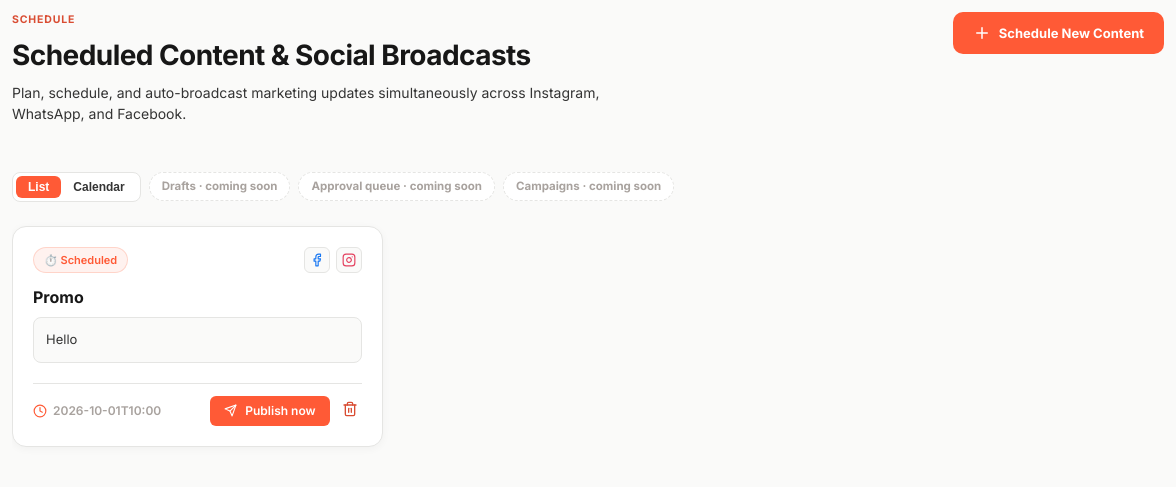
Test: Scheduler › handles "Live with warnings" branch when partial failures occur
The image size is (1176, 487).
What coordinates should you click on to do the following:
click the button "Publish now"
I would click on:
 (270, 411)
Its box is [210, 396, 330, 426].
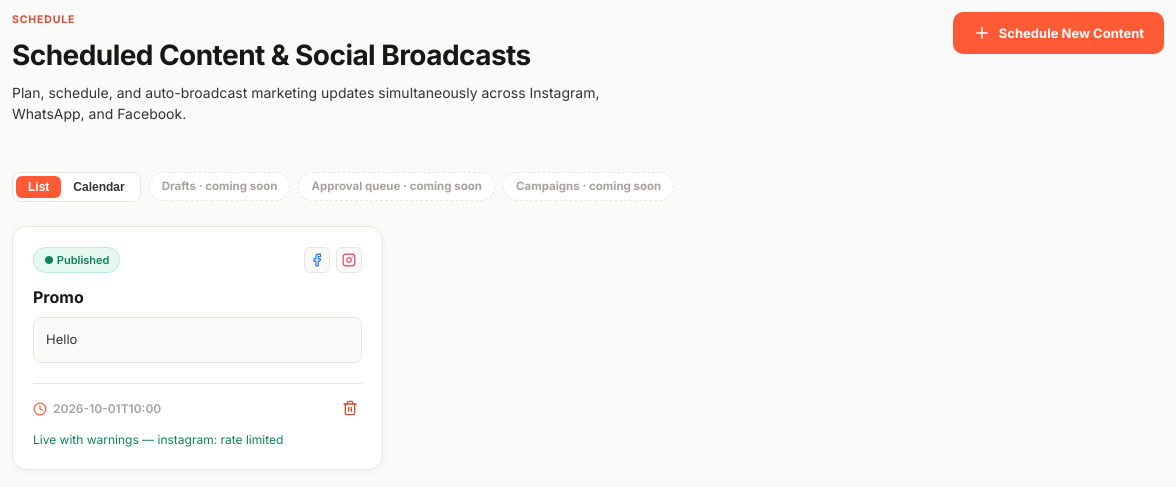
Expected: the text "Live with warnings — instagram: rate limited" is shown, [33, 432, 283, 447]
